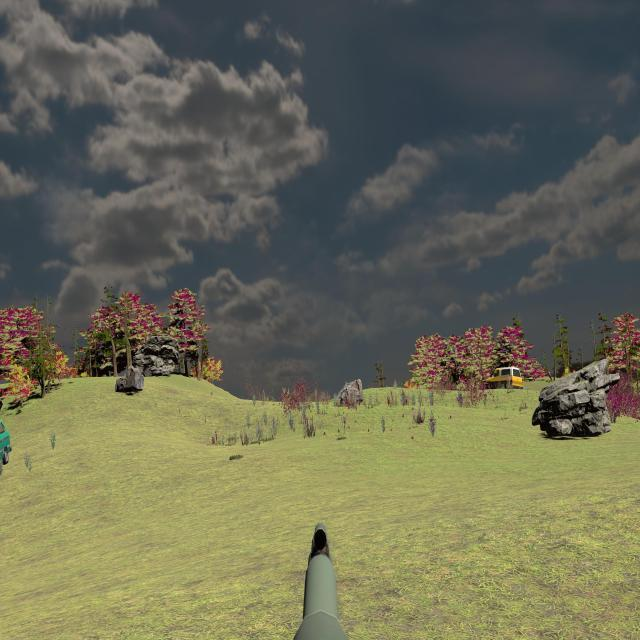car: (484, 366, 523, 392), (484, 366, 522, 391), (0, 414, 11, 479)
